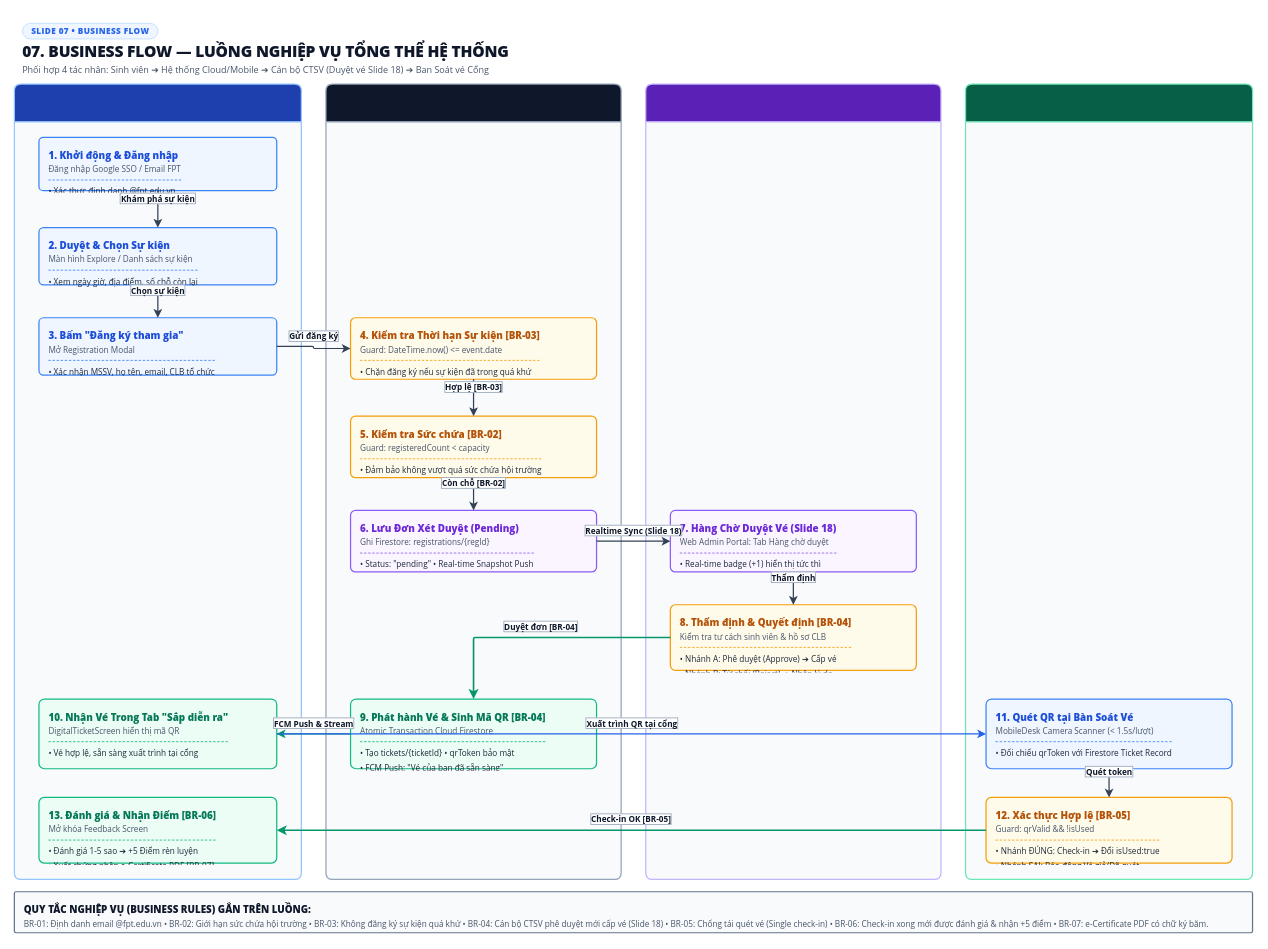
Image size: 1268x949. Some labels were removed from this diagram. The box of each missing label's shape, as (x1, y1, x2, y2) in pixels:
BAN SOÁT VÉ / CTV CỔNG MobileDesk Scanner viễn trắc thời gian thực: (965, 83, 1253, 880)
CÁN BỘ CTSV (WEB ADMIN PORTAL) Hàng chờ thẩm định đơn đăng ký & cấp vé: (645, 83, 941, 880)
HỆ THỐNG (MOBILE VM & FIRESTORE) Atomic Engine, Rule Check & FCM Gateway: (325, 83, 621, 880)
SINH VIÊN (MOBILE APP) Tài khoản Email FPT (@fpt.edu.vn): (13, 83, 302, 880)
